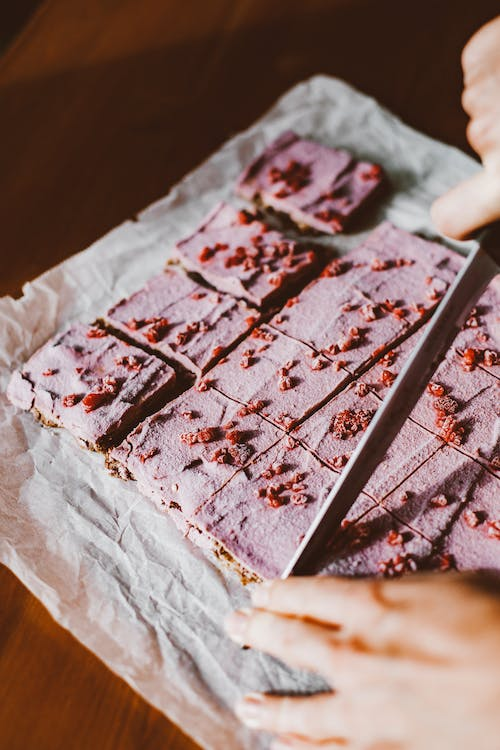knife: (239, 222, 500, 652)
